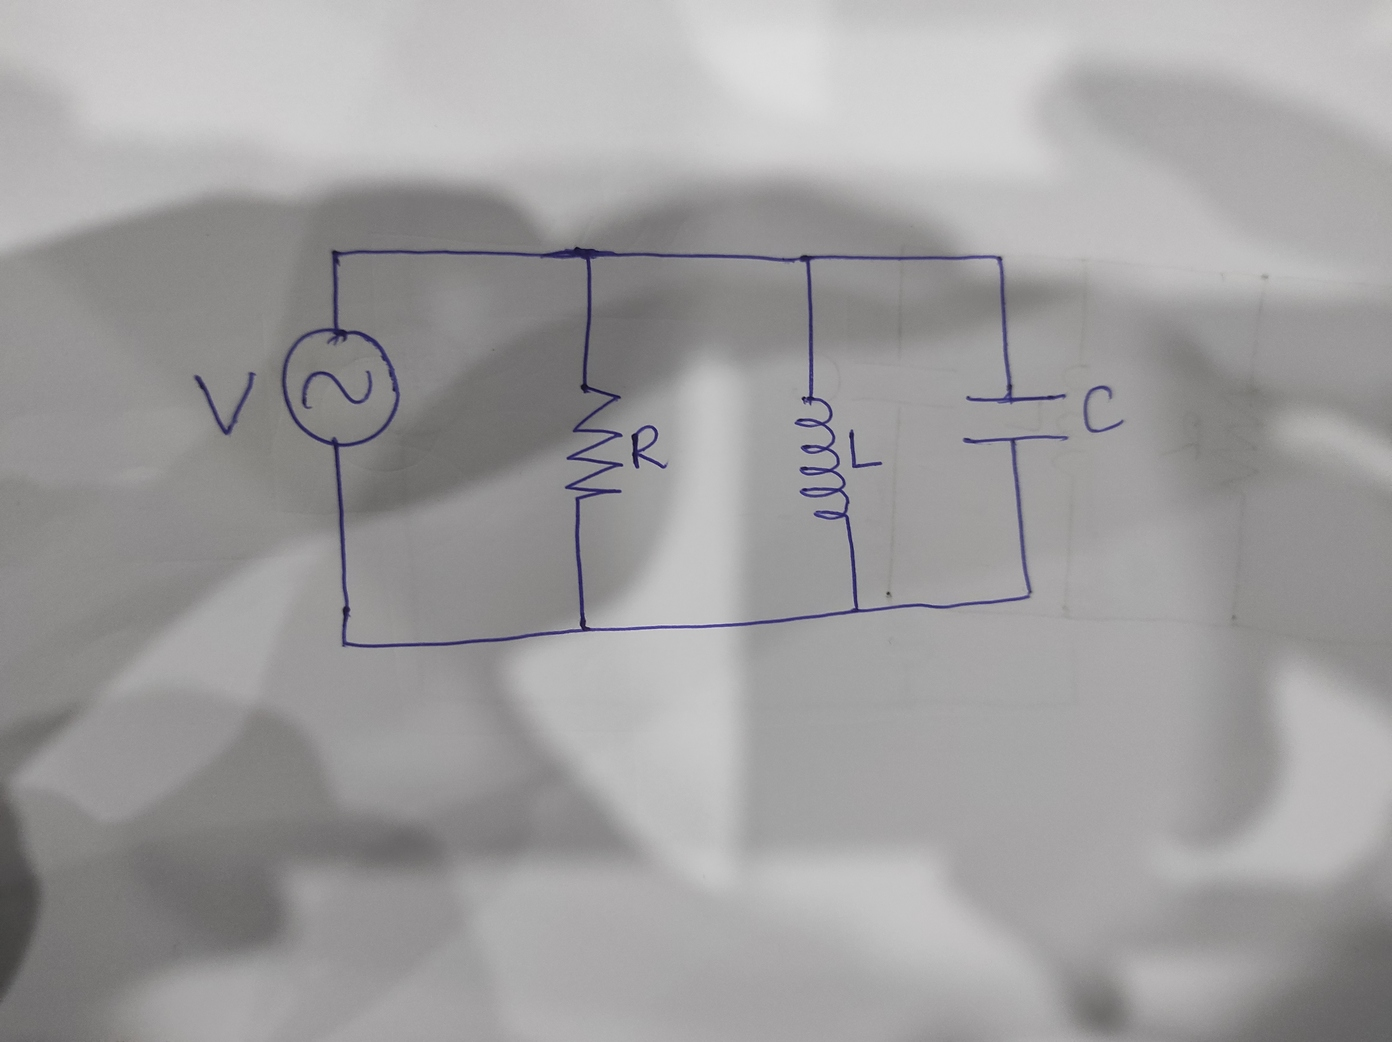capacitor.unpolarized: (958, 387, 1074, 448)
inductor: (791, 391, 854, 522)
junction: (568, 236, 606, 270), (332, 629, 357, 655), (575, 616, 598, 639), (325, 242, 348, 265), (794, 248, 819, 270), (987, 247, 1010, 269), (844, 600, 867, 618), (1019, 584, 1041, 603)
resistor: (560, 379, 626, 503)
text: (190, 369, 258, 437), (1079, 381, 1128, 438), (629, 422, 670, 472), (846, 422, 885, 468)
voltage.dc_ac: (276, 323, 404, 450)
